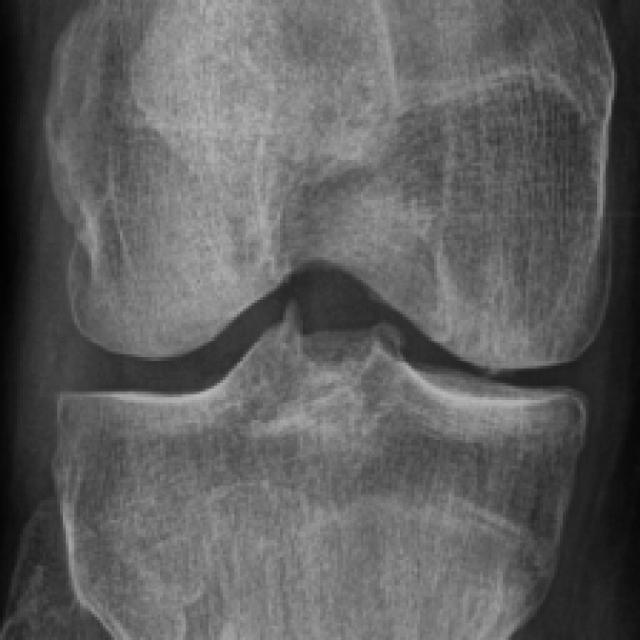femur: (44, 0, 618, 370)
tibia: (59, 321, 588, 640)
